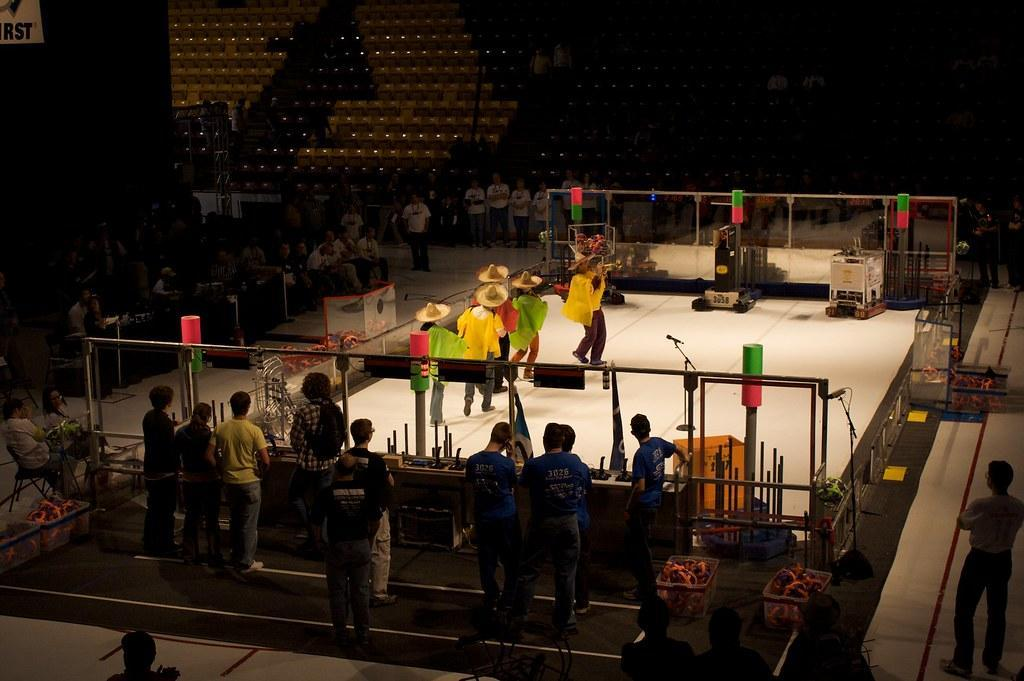robot: (549, 220, 630, 313), (690, 223, 767, 317), (823, 231, 890, 327)
